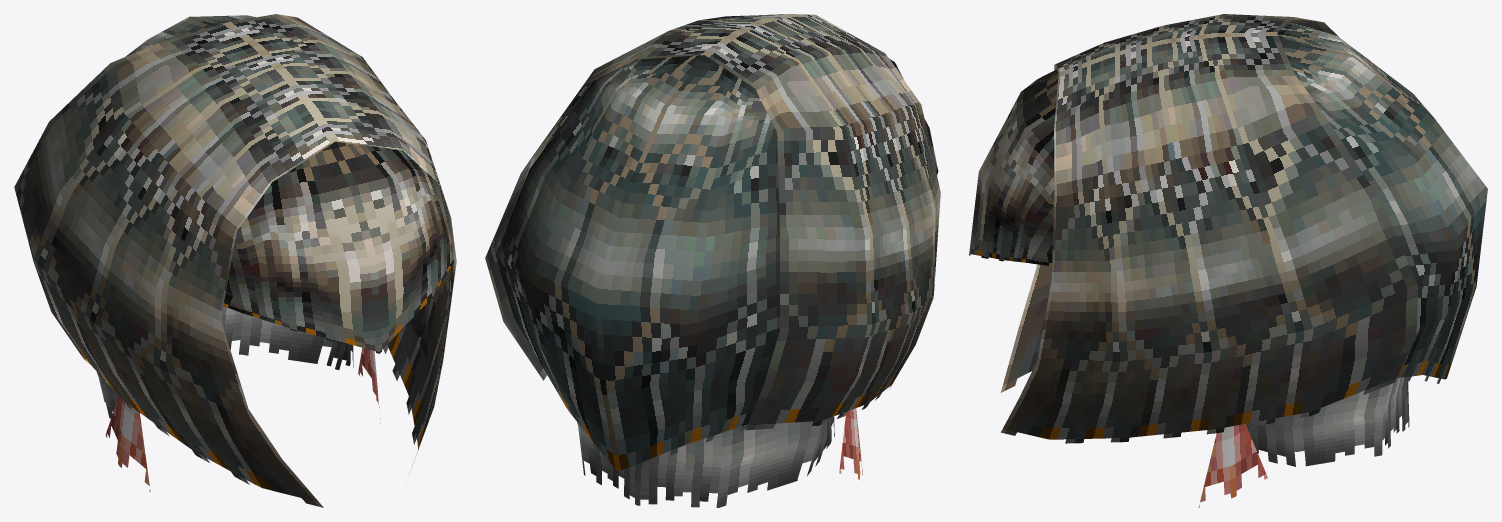
Rendered from f_hair037.glb.
3 views of the same model, side by side, from view 1: azimuth 30°, elevation 25°; view 2: azimuth 150°, elevation 25°; view 3: azimuth 270°, elevation 25° (orthographic). The views are drawn at different scales.
Bounding box in the file's own units: 21.36 × 23.84 × 26.84.
1 material, 1 textured.
